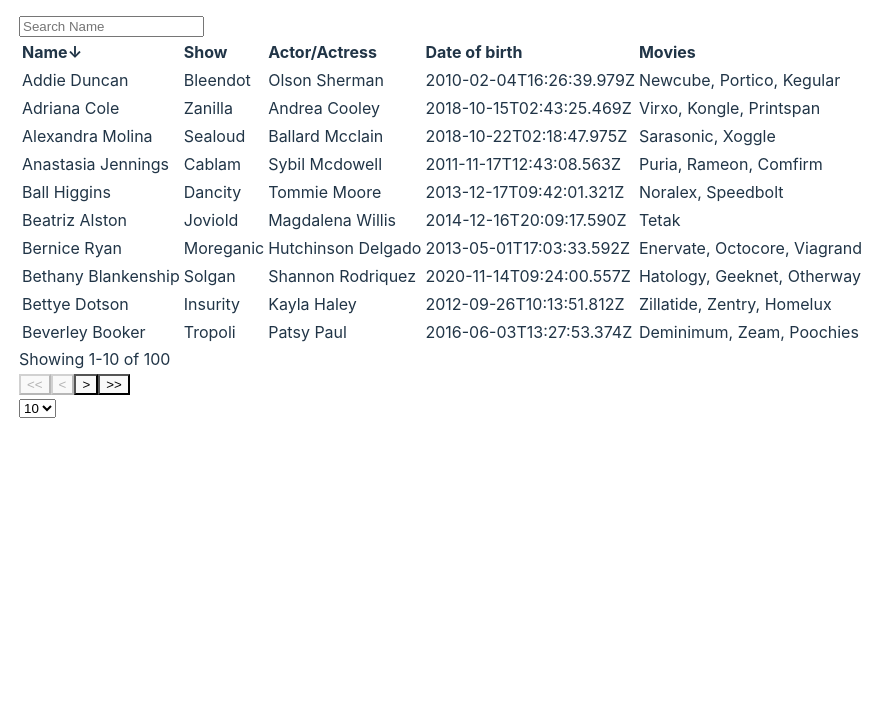
Test case: People › Pagination › should update number of people displayed
Expected: the table is shown, top-left (19, 37), bottom-right (865, 347)
Expected: the text "Showing 1-10 of 100" is shown, top-left (19, 349), bottom-right (170, 369)
Select "15" in the dropdown at (38, 408), box top-left (19, 399), bottom-right (56, 418)
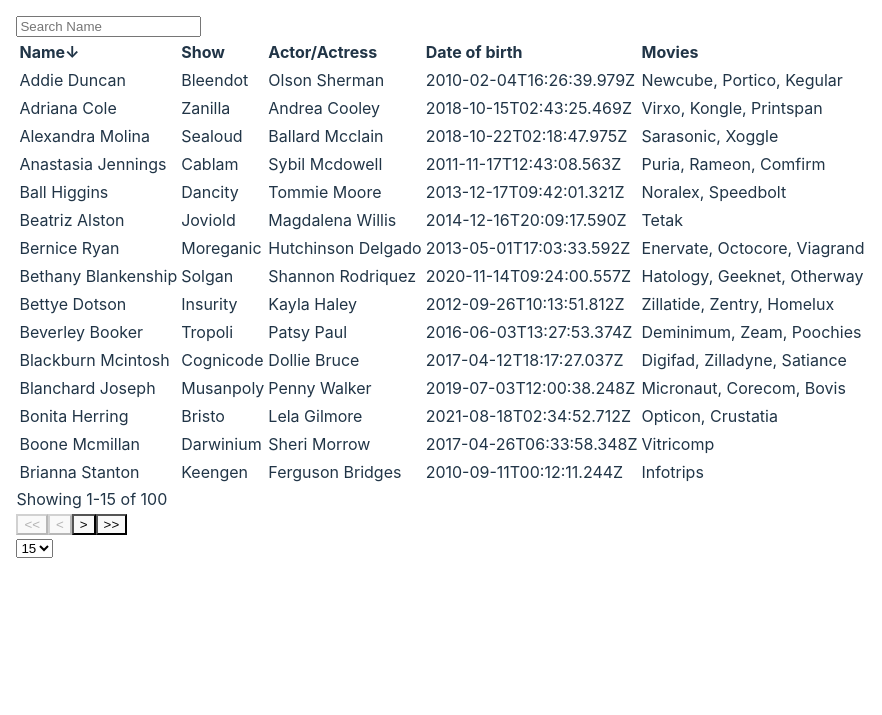
Expected: the text "Showing 1-15 of 100" is shown, top-left (16, 489), bottom-right (167, 509)
Select "20" in the dropdown at (35, 548), box top-left (16, 539), bottom-right (53, 558)
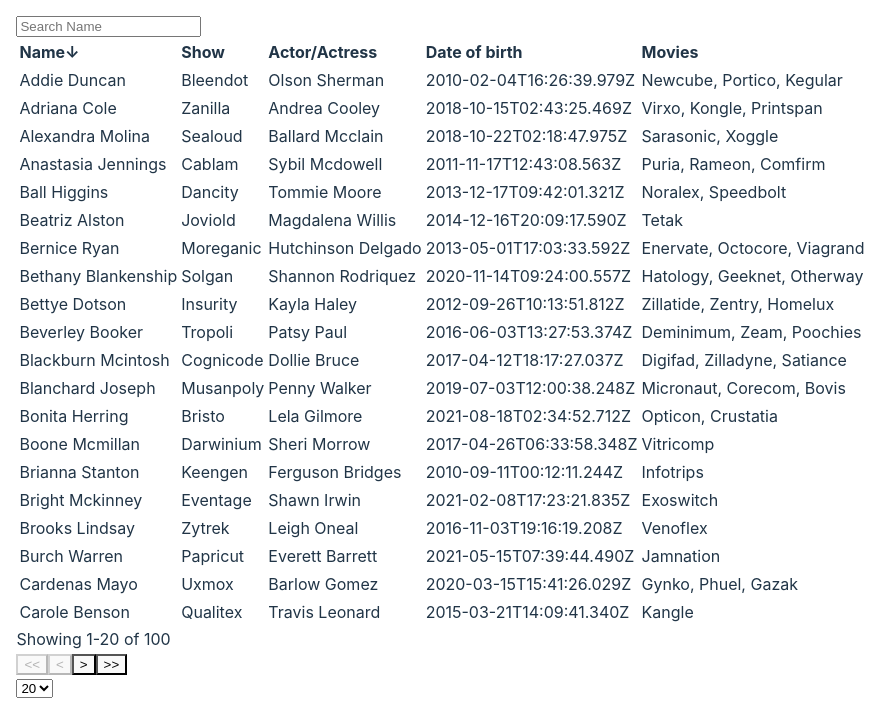
Expected: the text "Showing 1-20 of 100" is shown, top-left (16, 629), bottom-right (171, 649)
